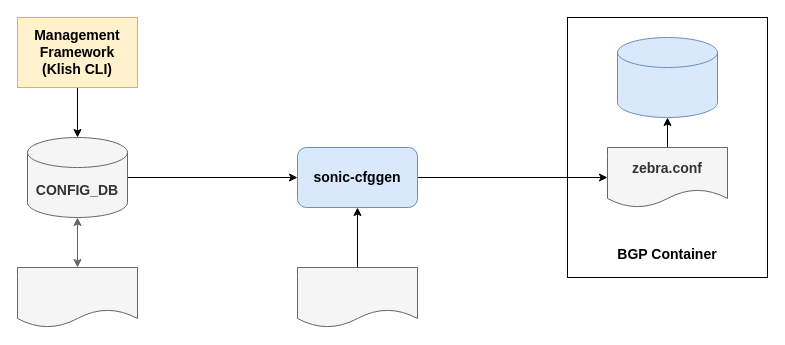
This 785x345 diagram has some shape labels left out. Here are the shapes that lost their labels. From the top down, the centre of each, then its label:
point (667, 77): FRR (zebra)
point (77, 297): config_db.json
point (357, 297): zebra.conf.j2
